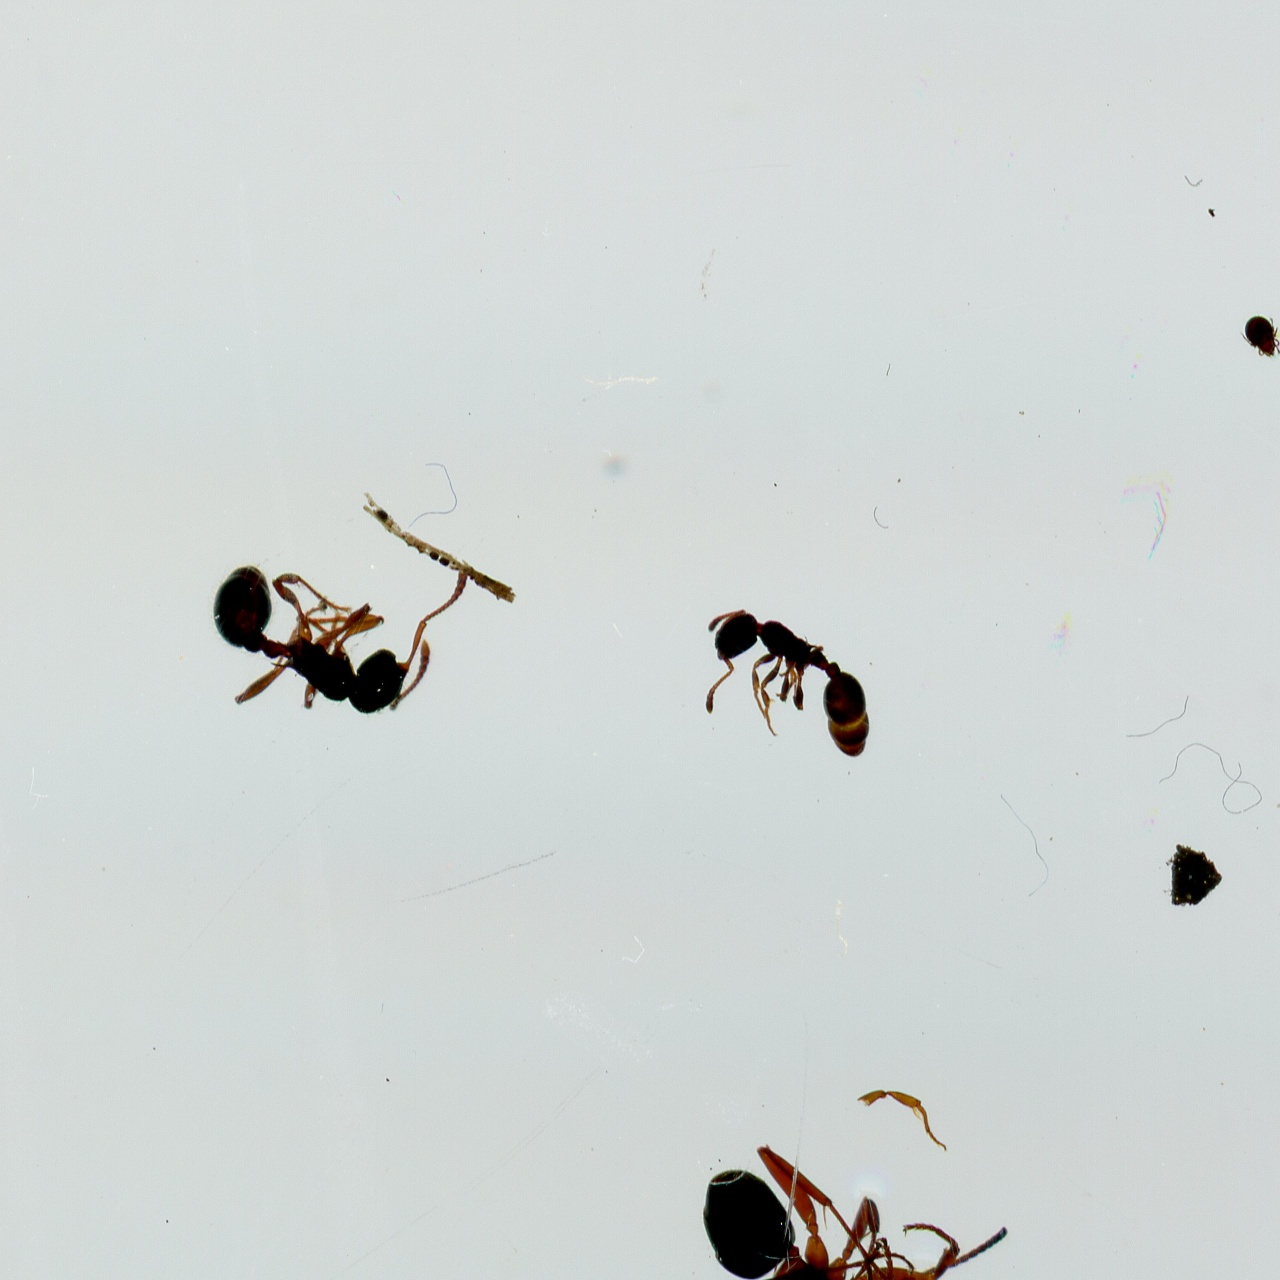arthropod: (679, 1139, 1013, 1280), (211, 551, 472, 722), (702, 601, 873, 761), (1233, 307, 1280, 368)
